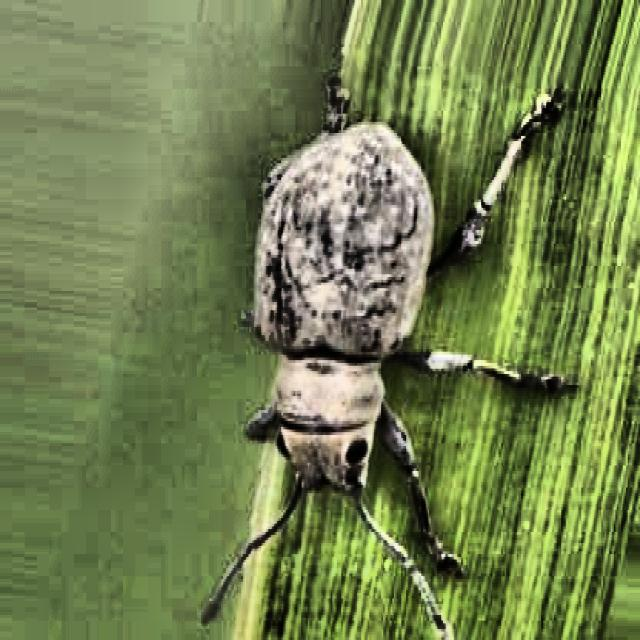Stink bug: (167, 9, 534, 618)
